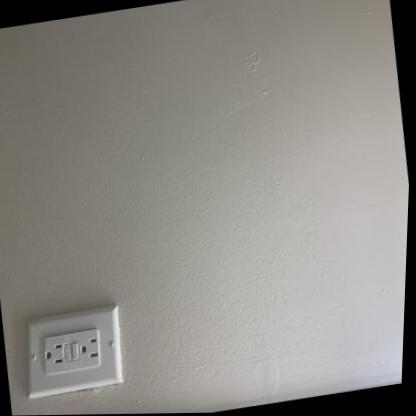OUTLET: (19, 304, 128, 395)
